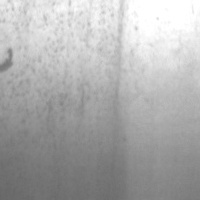pitted_surface: (0, 0, 127, 172)
